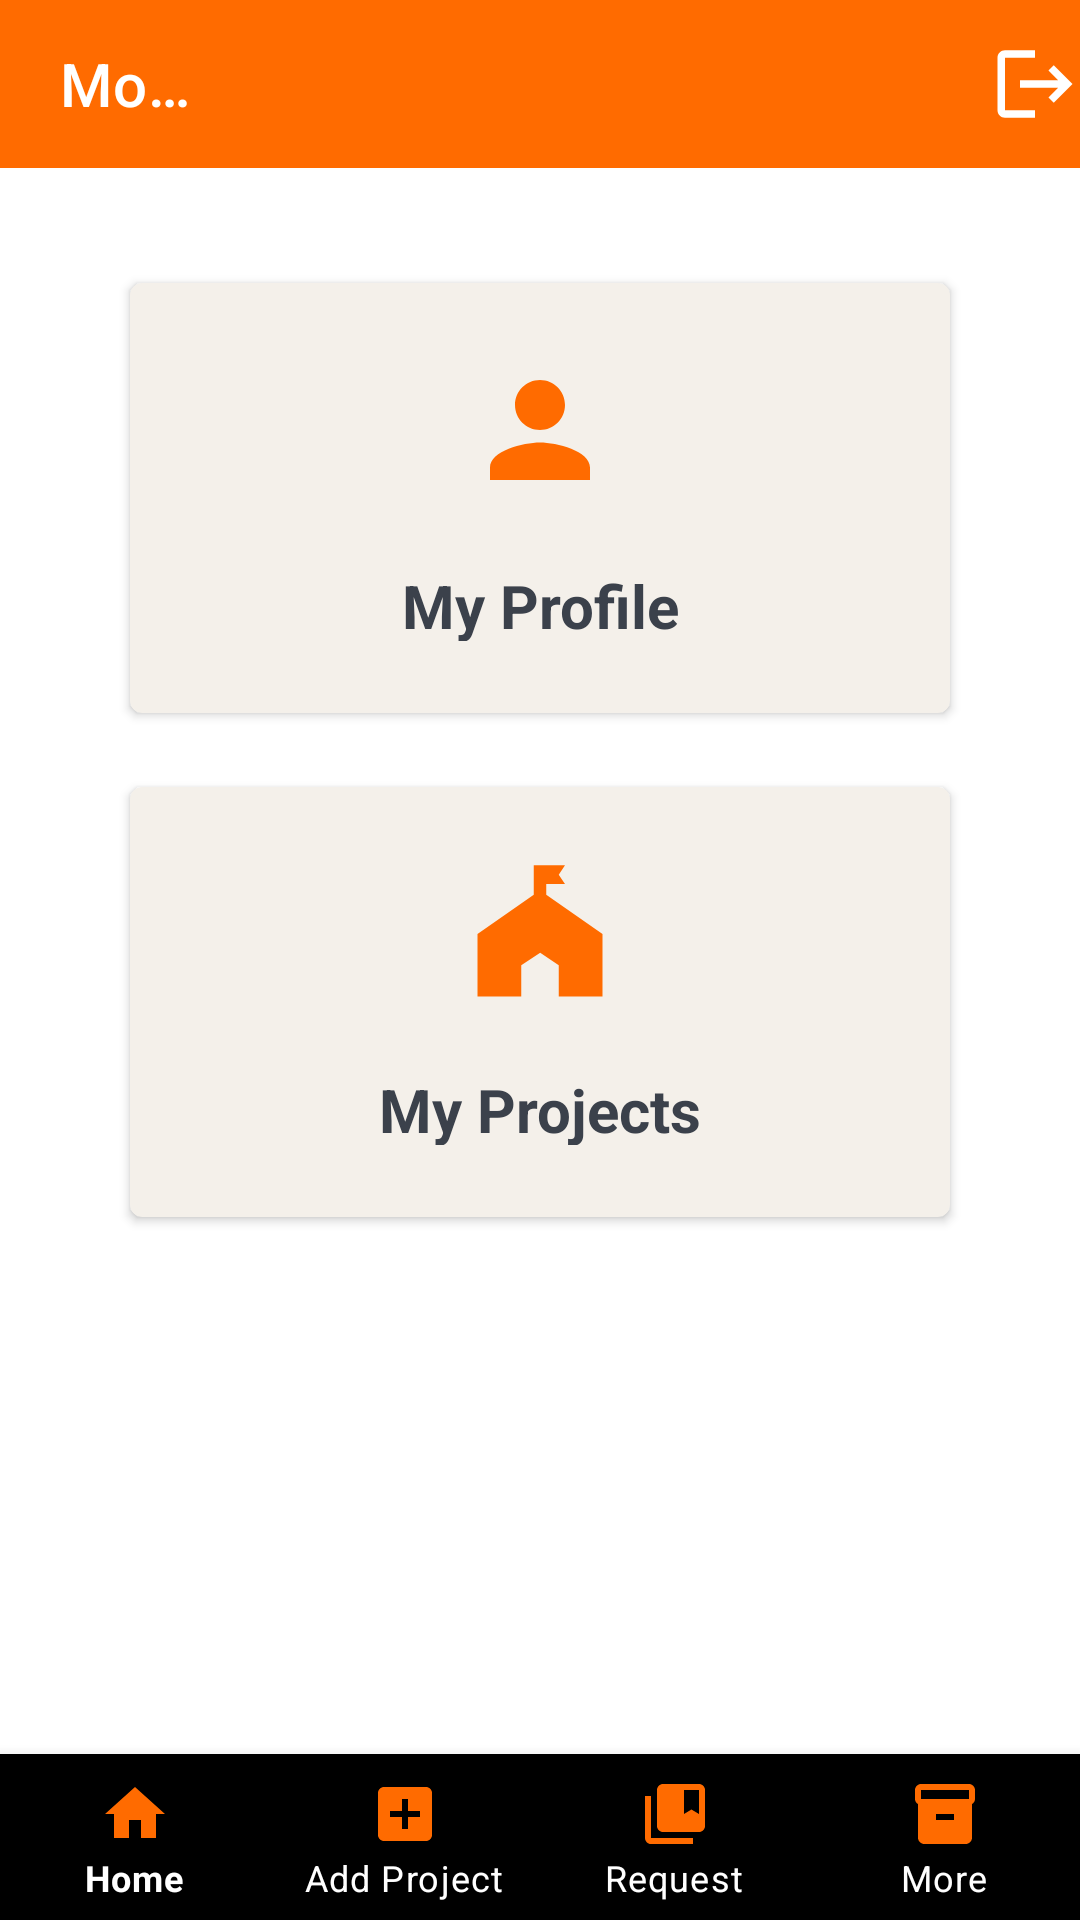

Named icons in this screenshot (1080*1920) and their centers, [x,y]:
person: [540,430]
